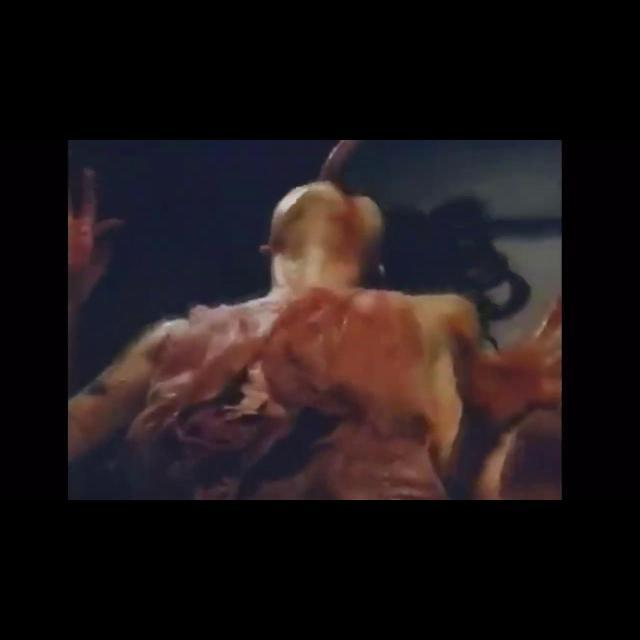blood: (70, 140, 561, 500), (68, 172, 115, 338)
